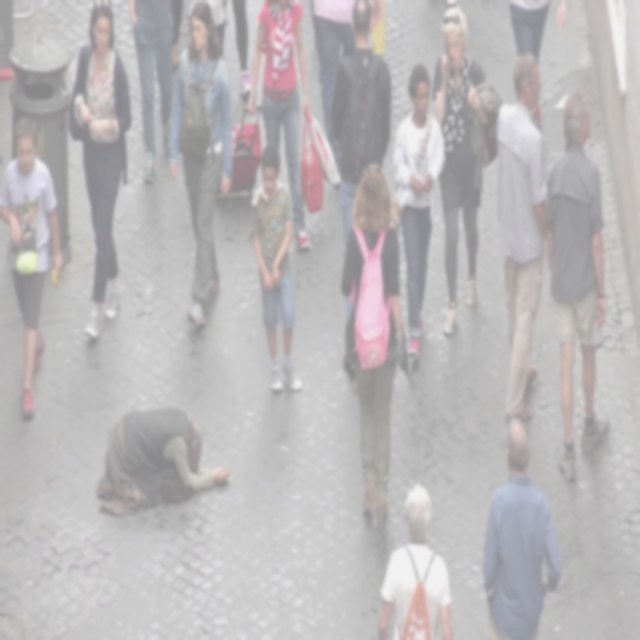pessoa: (542, 84, 614, 484), (336, 153, 410, 528), (64, 0, 136, 346), (430, 2, 504, 338), (167, 0, 237, 334), (328, 0, 394, 331), (245, 0, 330, 256), (0, 112, 66, 426), (495, 49, 549, 427), (478, 412, 566, 639), (386, 60, 446, 363), (94, 403, 230, 518), (248, 142, 302, 392), (374, 481, 457, 638), (127, 0, 179, 190), (504, 0, 566, 139), (312, 0, 356, 191), (169, 0, 252, 98), (368, 0, 388, 66), (442, 0, 459, 10)
